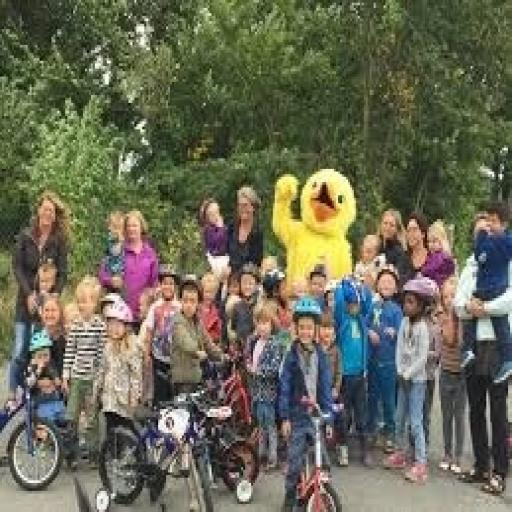cycling: (4, 177, 510, 507)
